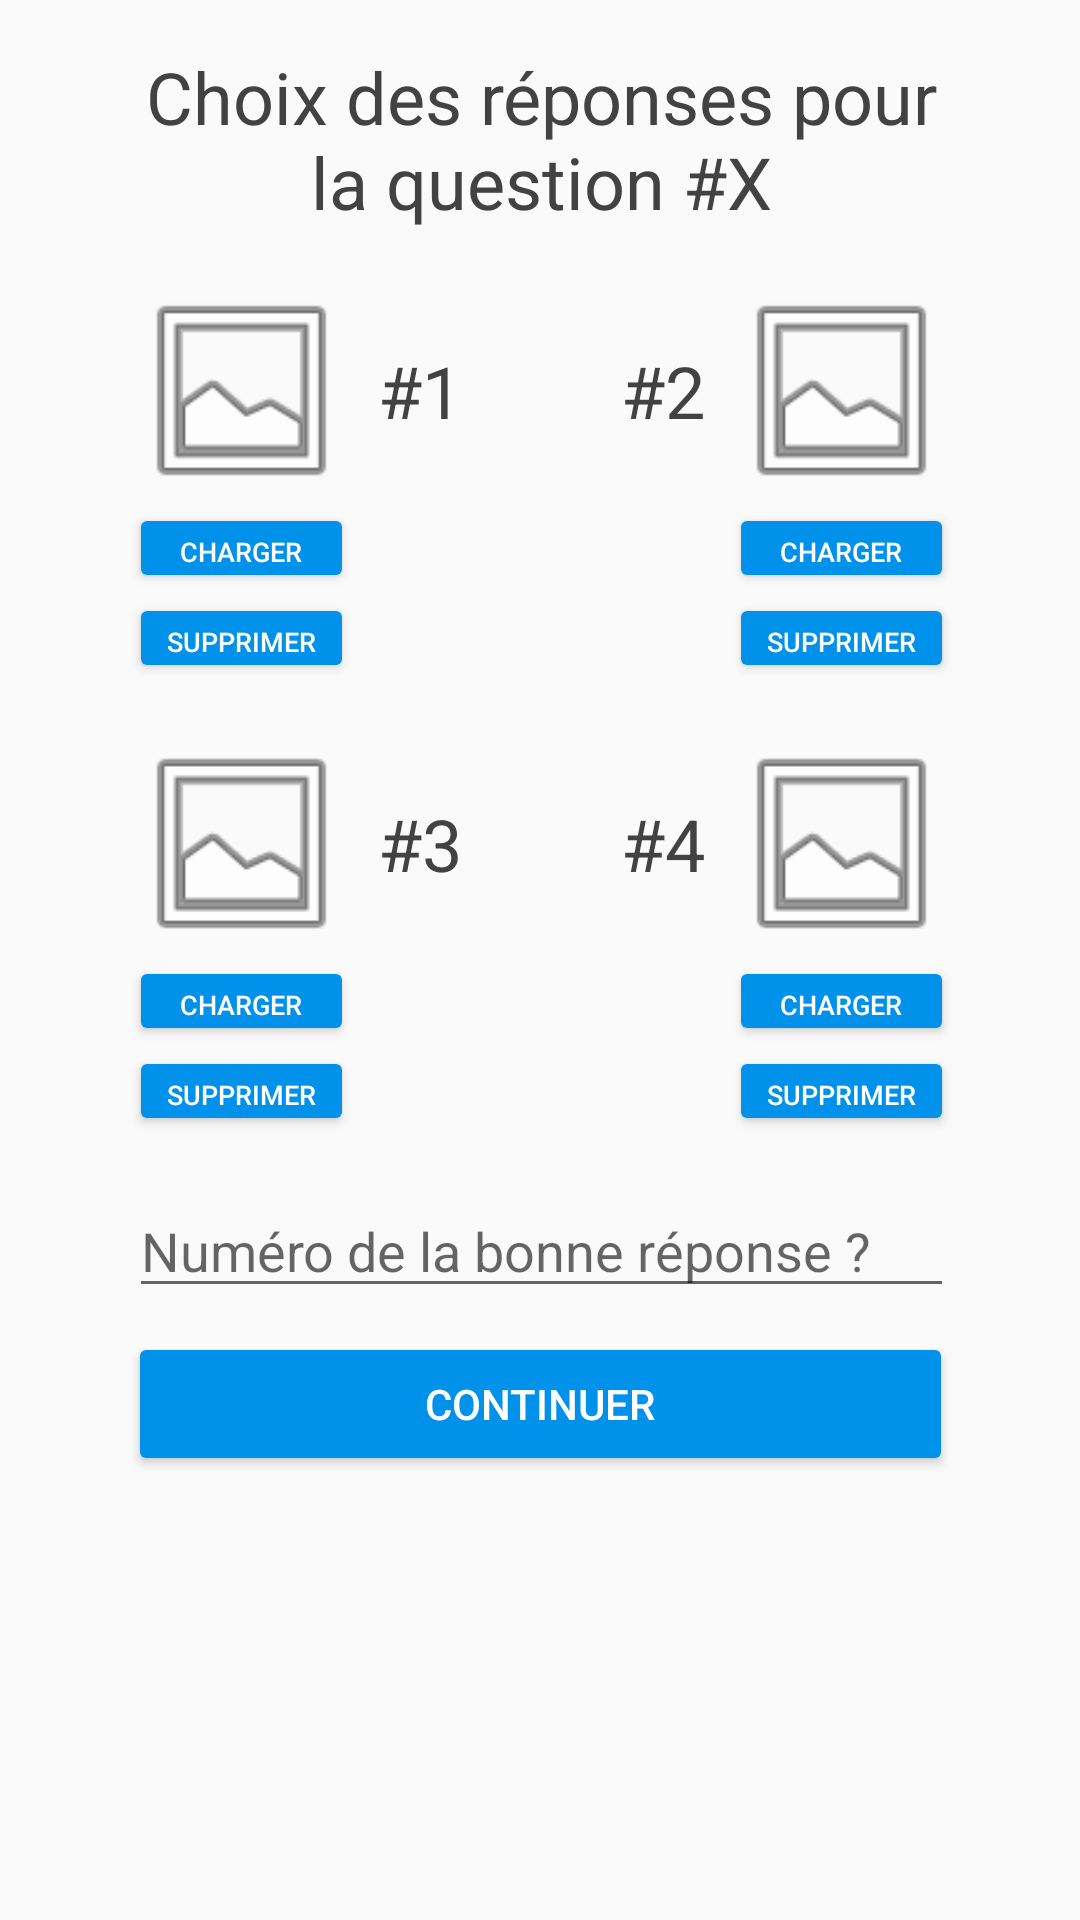

Where to tap for icons on this 1080*1920 app screen, as (x=x, y=y):
gallery: (x=241, y=390), (x=841, y=390), (x=241, y=843), (x=841, y=843)
